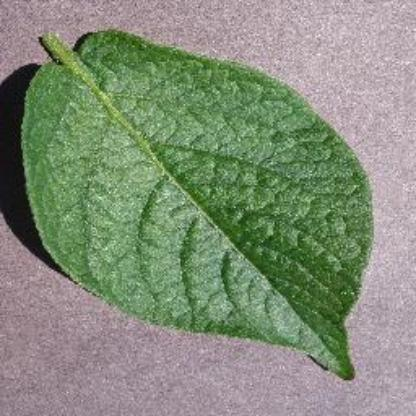Healthy-plant: (9, 26, 385, 390)
